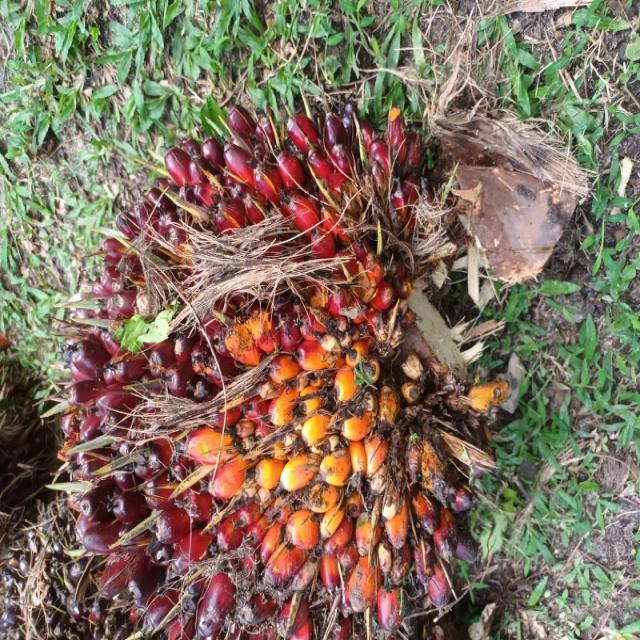fraksi 1: (151, 0, 590, 548)
